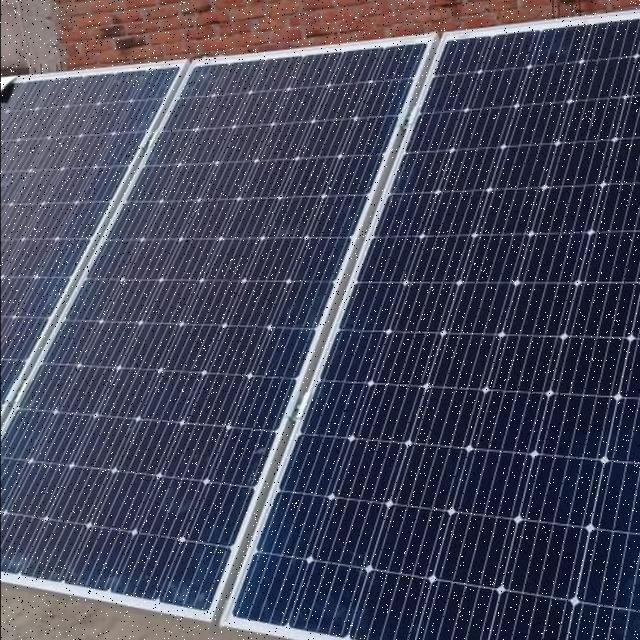clean: (1, 30, 640, 636)
